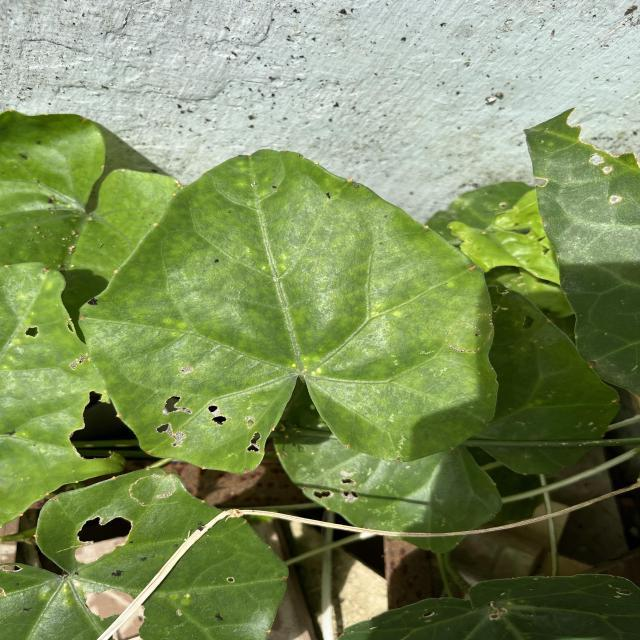Coccinia grandis: (75, 144, 500, 478)
